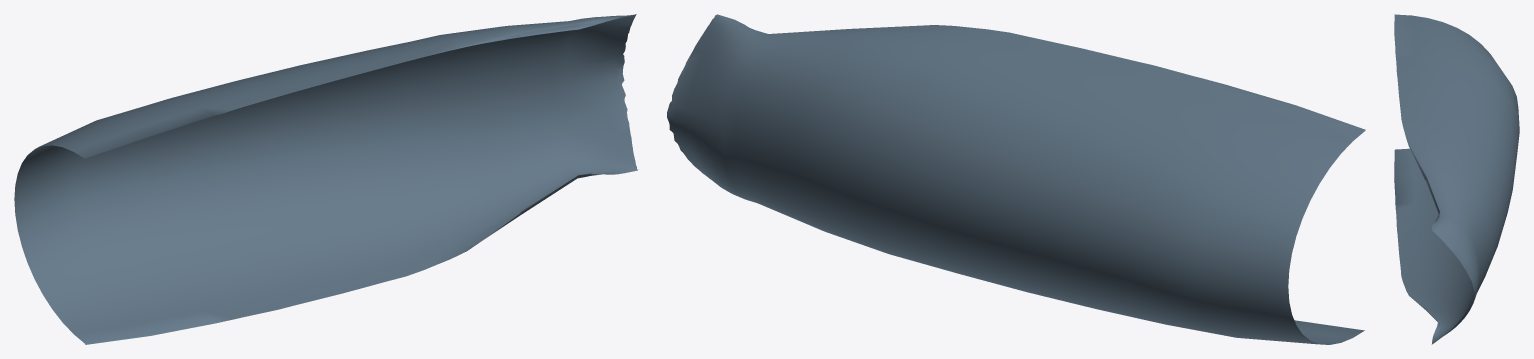
File: canopy_glass_inner.fbx
3 renders of one model, left to right at view 1: azimuth 30°, elevation 25°; view 2: azimuth 150°, elevation 25°; view 3: azimuth 270°, elevation 25°, orthographic. The views are drawn at different scales.
Visible parts, largest first — view 1: canopy_glass_inner; view 2: canopy_glass_inner; view 3: canopy_glass_inner.
Boxes of the visible parts, x1,y1,x2,y2 form: canopy_glass_inner: (14,14,638,344); canopy_glass_inner: (667,14,1365,344); canopy_glass_inner: (1394,14,1519,344).
Bounding box in the file's own units: 2.46 × 0.8495 × 0.617.
